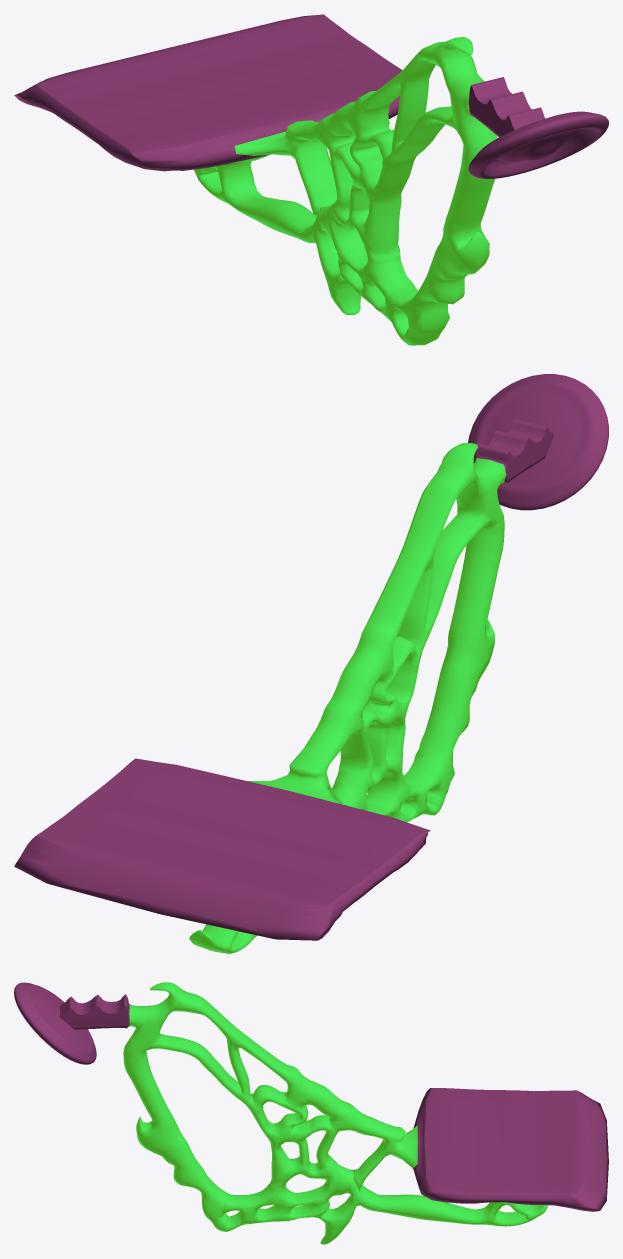
The model's file is AlienFrame.fbx.
3 views of the same model, one above another, from view 1: azimuth 30°, elevation 25°; view 2: azimuth 150°, elevation 25°; view 3: azimuth 270°, elevation 25° (orthographic). The views are drawn at different scales.
Visible parts, largest first — view 1: polySurface14; view 2: polySurface14; view 3: polySurface14.
Part boxes in pixels (<box>): polySurface14: <box>14,14,608,345</box>; polySurface14: <box>14,374,608,953</box>; polySurface14: <box>14,982,608,1244</box>.
Bounding box in the file's own units: 2.77 × 3.11 × 6.48.
